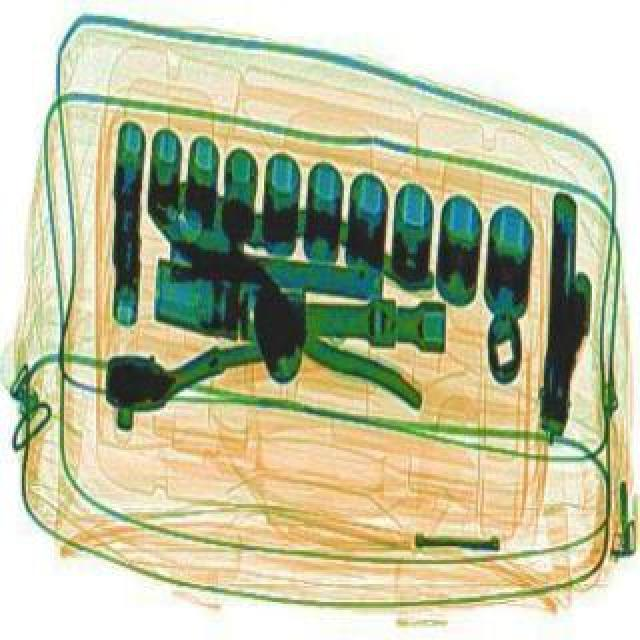gun: (534, 186, 598, 440)
